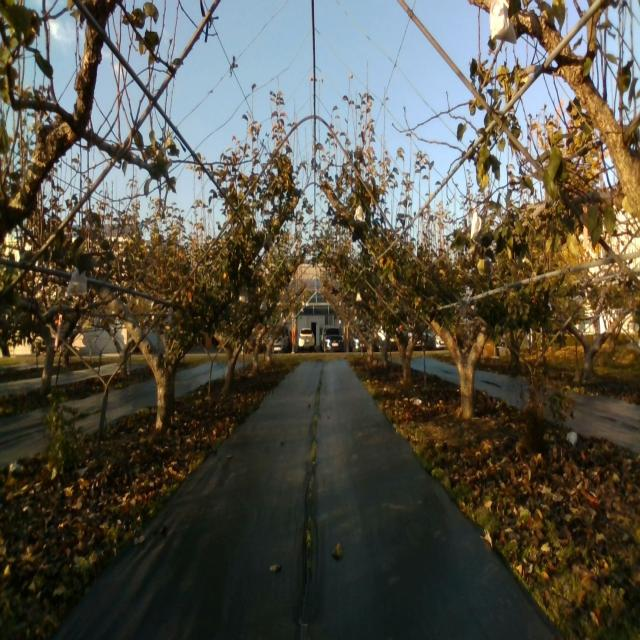pearbags: (489, 0, 517, 45), (66, 269, 88, 296), (470, 209, 482, 245)
